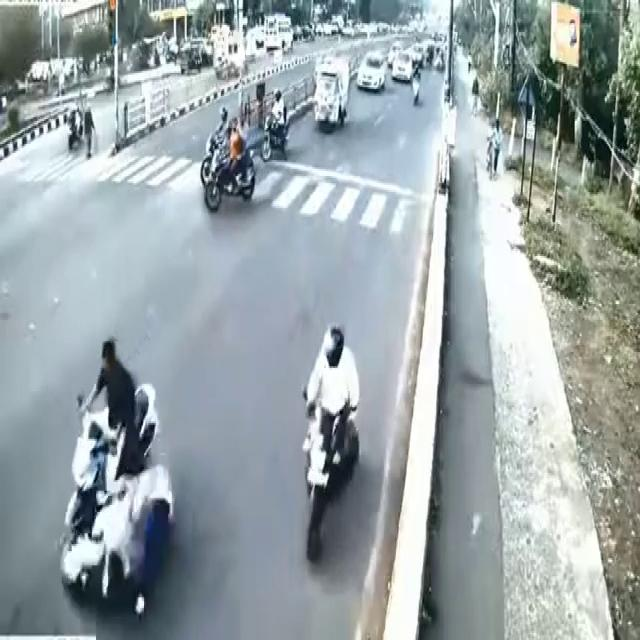accident: (29, 310, 196, 635)
